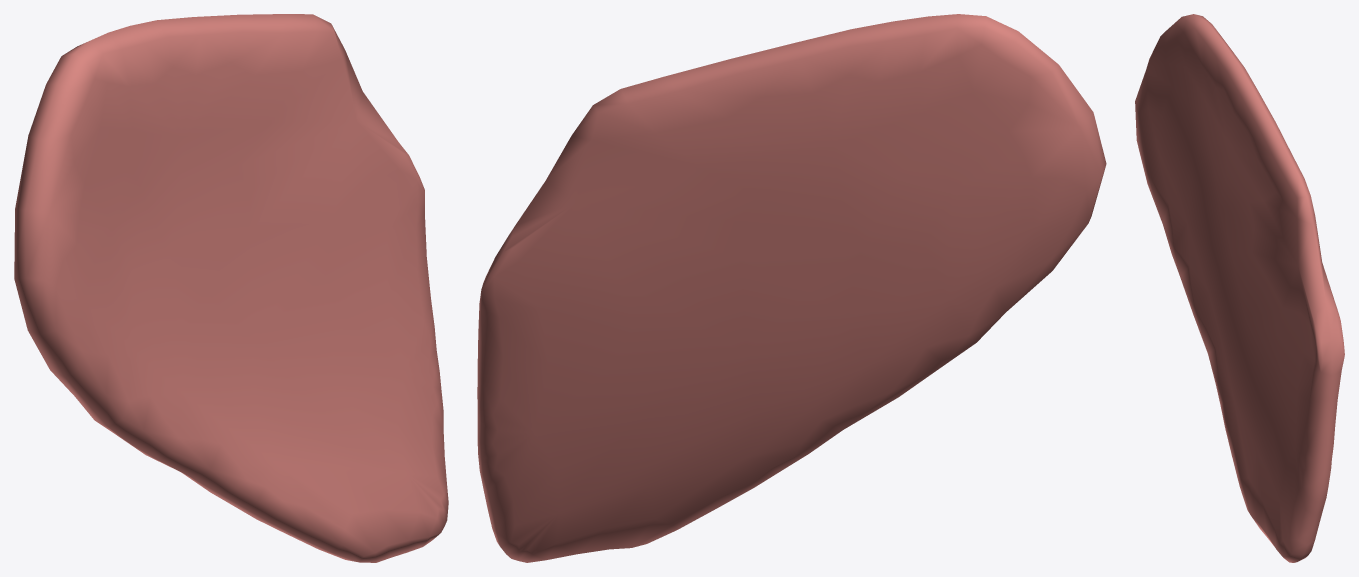
3 views of the same model, side by side, from view 1: azimuth 30°, elevation 25°; view 2: azimuth 150°, elevation 25°; view 3: azimuth 270°, elevation 25° (orthographic). The views are drawn at different scales.
Parts seen in each view (by area): view 1: ZA_5432154649dd8f37; view 2: ZA_5432154649dd8f37; view 3: ZA_5432154649dd8f37.
Boxes of the visible parts, box(x1,y1,x2,y2) form: ZA_5432154649dd8f37: box(14, 14, 448, 562); ZA_5432154649dd8f37: box(477, 14, 1106, 562); ZA_5432154649dd8f37: box(1135, 14, 1344, 562).
Bounding box in the file's own units: 0.00695 × 0.00779 × 0.00357.
